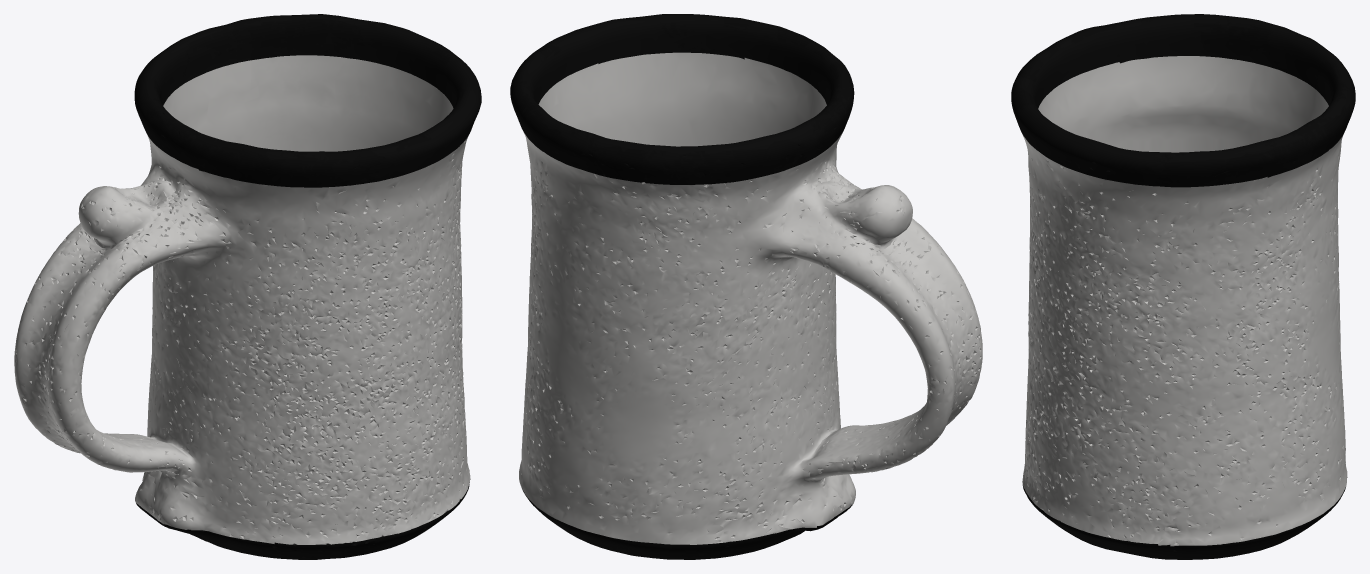
The model's file is mug_2.glb.
3 renders of one model, left to right at view 1: azimuth 30°, elevation 25°; view 2: azimuth 150°, elevation 25°; view 3: azimuth 270°, elevation 25°, orthographic.
Parts seen in each view (by area): view 1: Ceramic Cup; view 2: Ceramic Cup; view 3: Ceramic Cup.
Boxes of the visible parts, box(x1,y1,x2,y2) form: Ceramic Cup: box(14, 14, 481, 559); Ceramic Cup: box(510, 14, 982, 559); Ceramic Cup: box(1011, 14, 1355, 559).
Size of the model in its own units: 0.1265 by 0.1192 by 0.0878.
Materials: 2 (2 with a texture image).
